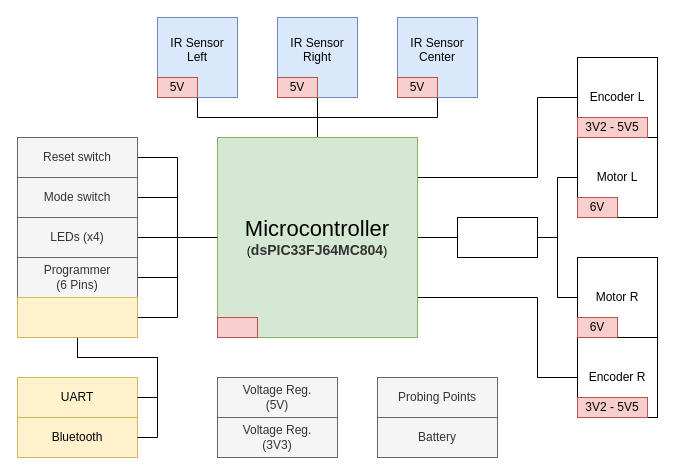
This 675x475 diagram has some shape labels left out. The shapes that lost their labels are listed below. From the top down, each one's centre as x and y in pixels, then its label:
point 497,237: Dual H-Bridge
point 77,317: Pin Header
point 237,327: 3V3
